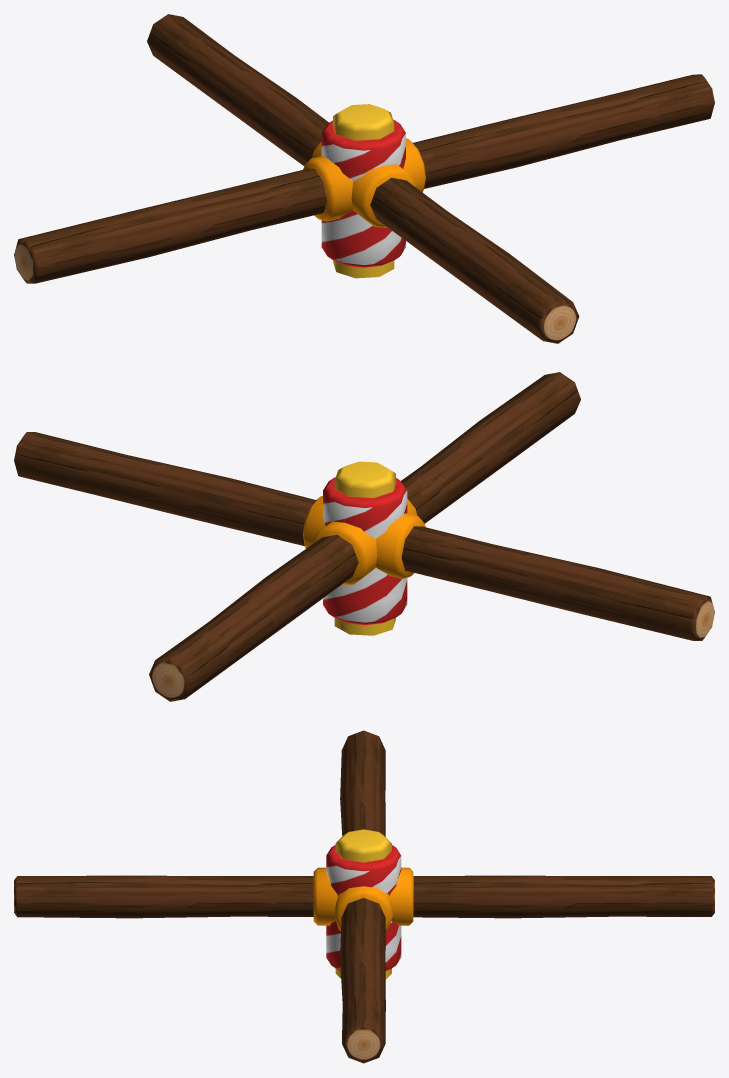
The model's file is OBS0110232.fbx.
3 renders of one model, top to bottom at view 1: azimuth 30°, elevation 25°; view 2: azimuth 150°, elevation 25°; view 3: azimuth 270°, elevation 25°, orthographic. The views are drawn at different scales.
Visible parts, largest first — view 1: smOBS0110232; view 2: smOBS0110232; view 3: smOBS0110232.
Part boxes in pixels (bbox=[...]): smOBS0110232: bbox=[14, 14, 714, 343]; smOBS0110232: bbox=[14, 372, 714, 701]; smOBS0110232: bbox=[14, 730, 714, 1063].
Size of the model in its own units: 1373 by 292 by 1373.
Materials: 1 (1 with a texture image).
